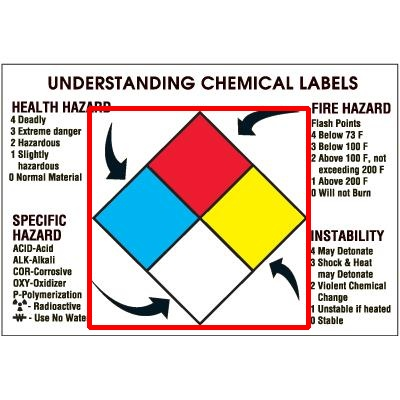nfpa: (89, 108, 308, 327)
